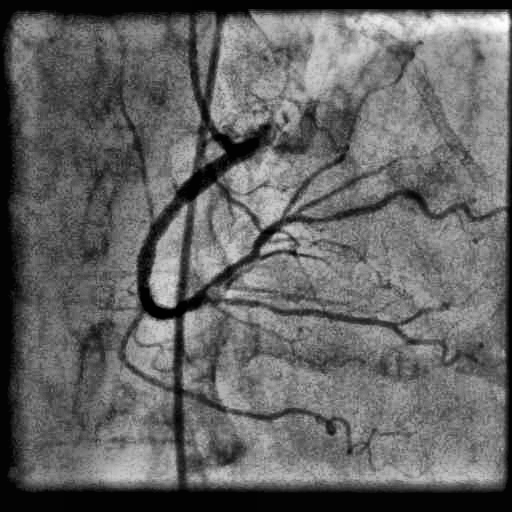pborca: (199, 190, 493, 295)
pda: (207, 296, 464, 366)
rca: (137, 145, 246, 319)
